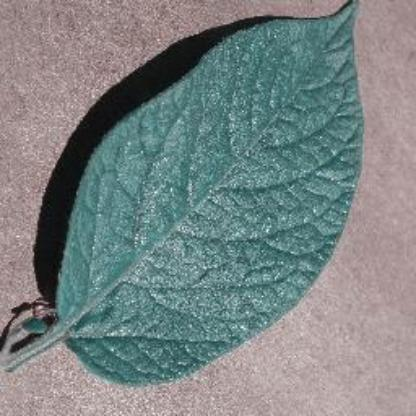Healthy-plant: (23, 11, 416, 415)
